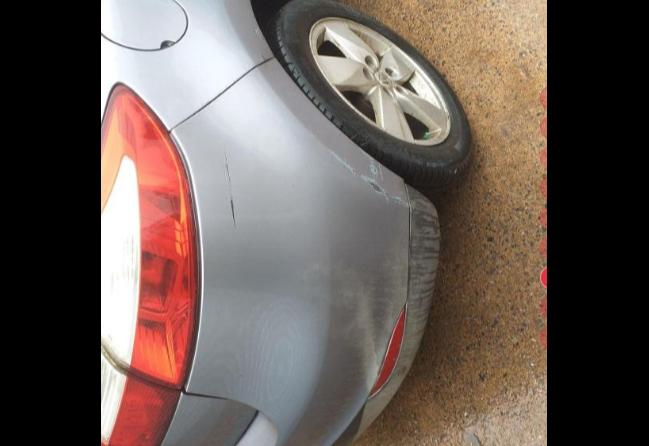Flaking: (358, 170, 392, 202), (324, 144, 357, 174), (358, 148, 384, 180), (390, 196, 410, 208)
Paint chip: (254, 26, 264, 36), (262, 52, 274, 60)
Scratch: (222, 144, 238, 230), (308, 122, 314, 136)
